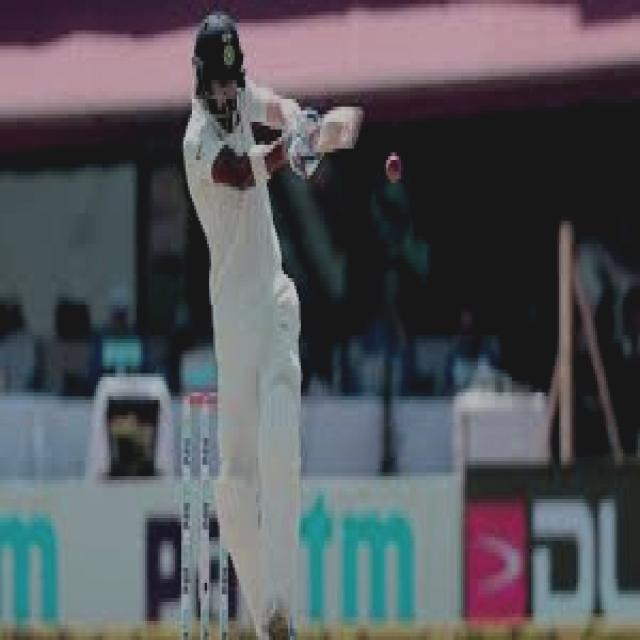toe: (342, 105, 365, 153)
